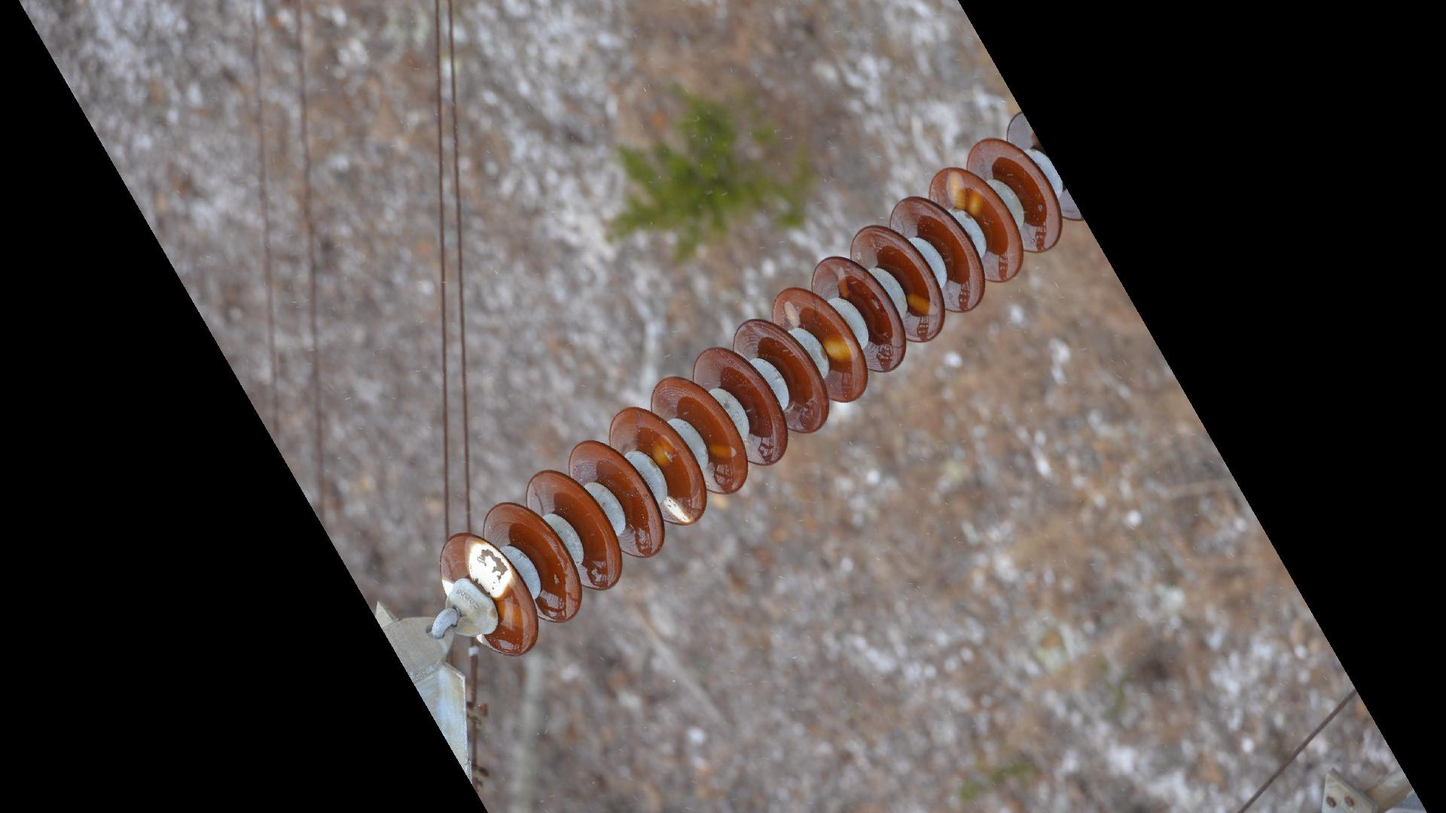insulator: (435, 110, 1088, 660)
insulator_flashover: (462, 533, 516, 603), (943, 169, 987, 219), (817, 332, 864, 366), (493, 598, 531, 633), (661, 494, 697, 526), (648, 432, 679, 468), (906, 290, 941, 319), (703, 443, 740, 461)
